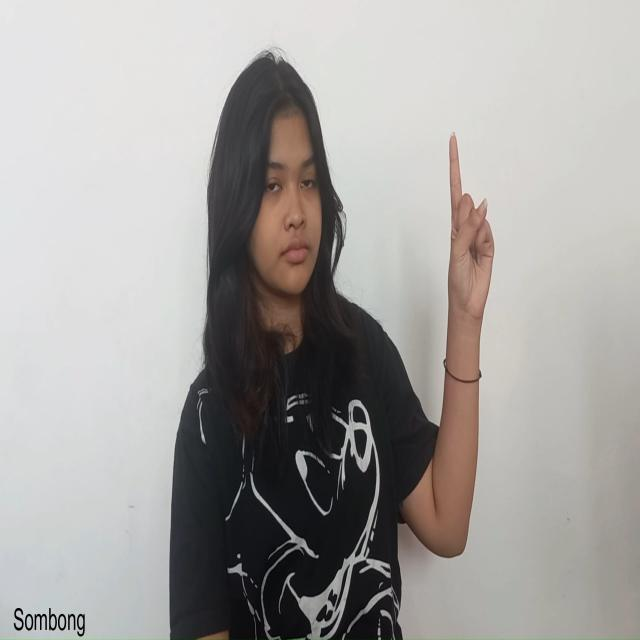Sombong -BISINDO-: (445, 128, 496, 334)
